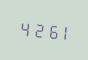four: (18, 17, 29, 38)
one: (54, 20, 65, 41)
six: (42, 19, 53, 40)
two: (30, 18, 41, 39)
